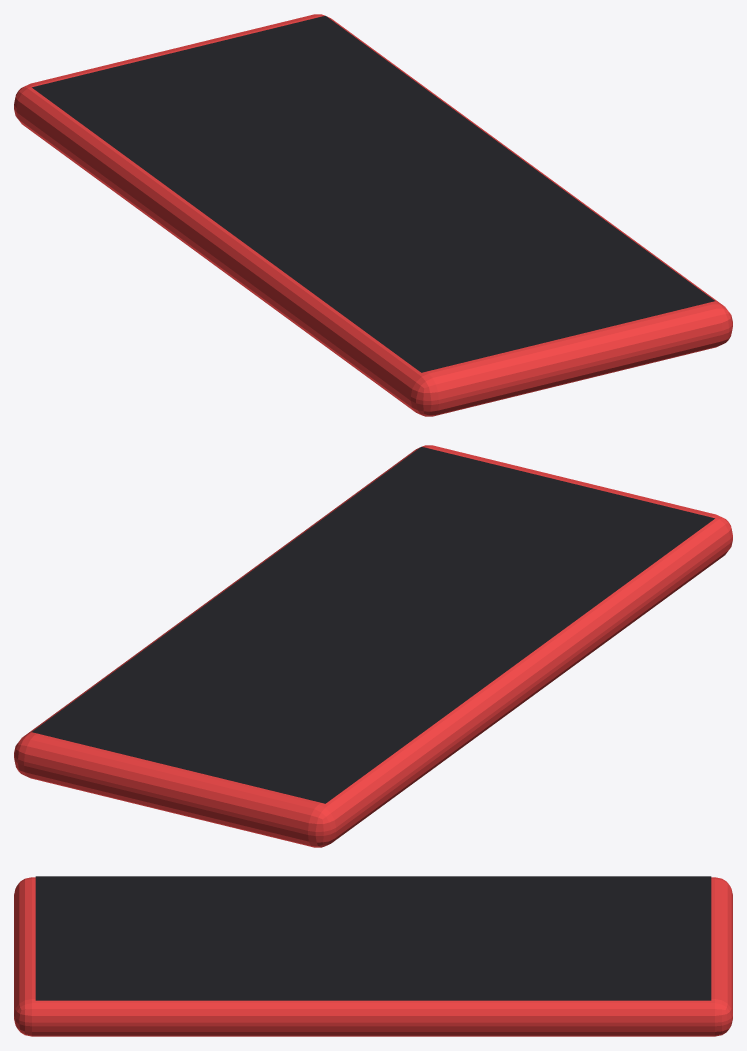
Rendered from motorola-razr-model-179-mid-range-2026.glb.
3 renders of one model, top to bottom at view 1: azimuth 30°, elevation 25°; view 2: azimuth 150°, elevation 25°; view 3: azimuth 270°, elevation 25°, orthographic. The views are drawn at different scales.
Visible parts, largest first — view 1: Phone_Screen, Phone_Body; view 2: Phone_Screen, Phone_Body; view 3: Phone_Screen, Phone_Body.
Boxes of the visible parts, x1,y1,x2,y2 form: Phone_Screen: (32, 15, 714, 372); Phone_Body: (14, 14, 732, 416); Phone_Screen: (32, 446, 714, 803); Phone_Body: (14, 445, 732, 847); Phone_Screen: (35, 876, 711, 1000); Phone_Body: (14, 877, 732, 1036).
Size of the model in its own units: 0.0709 by 0.0089 by 0.1594.
